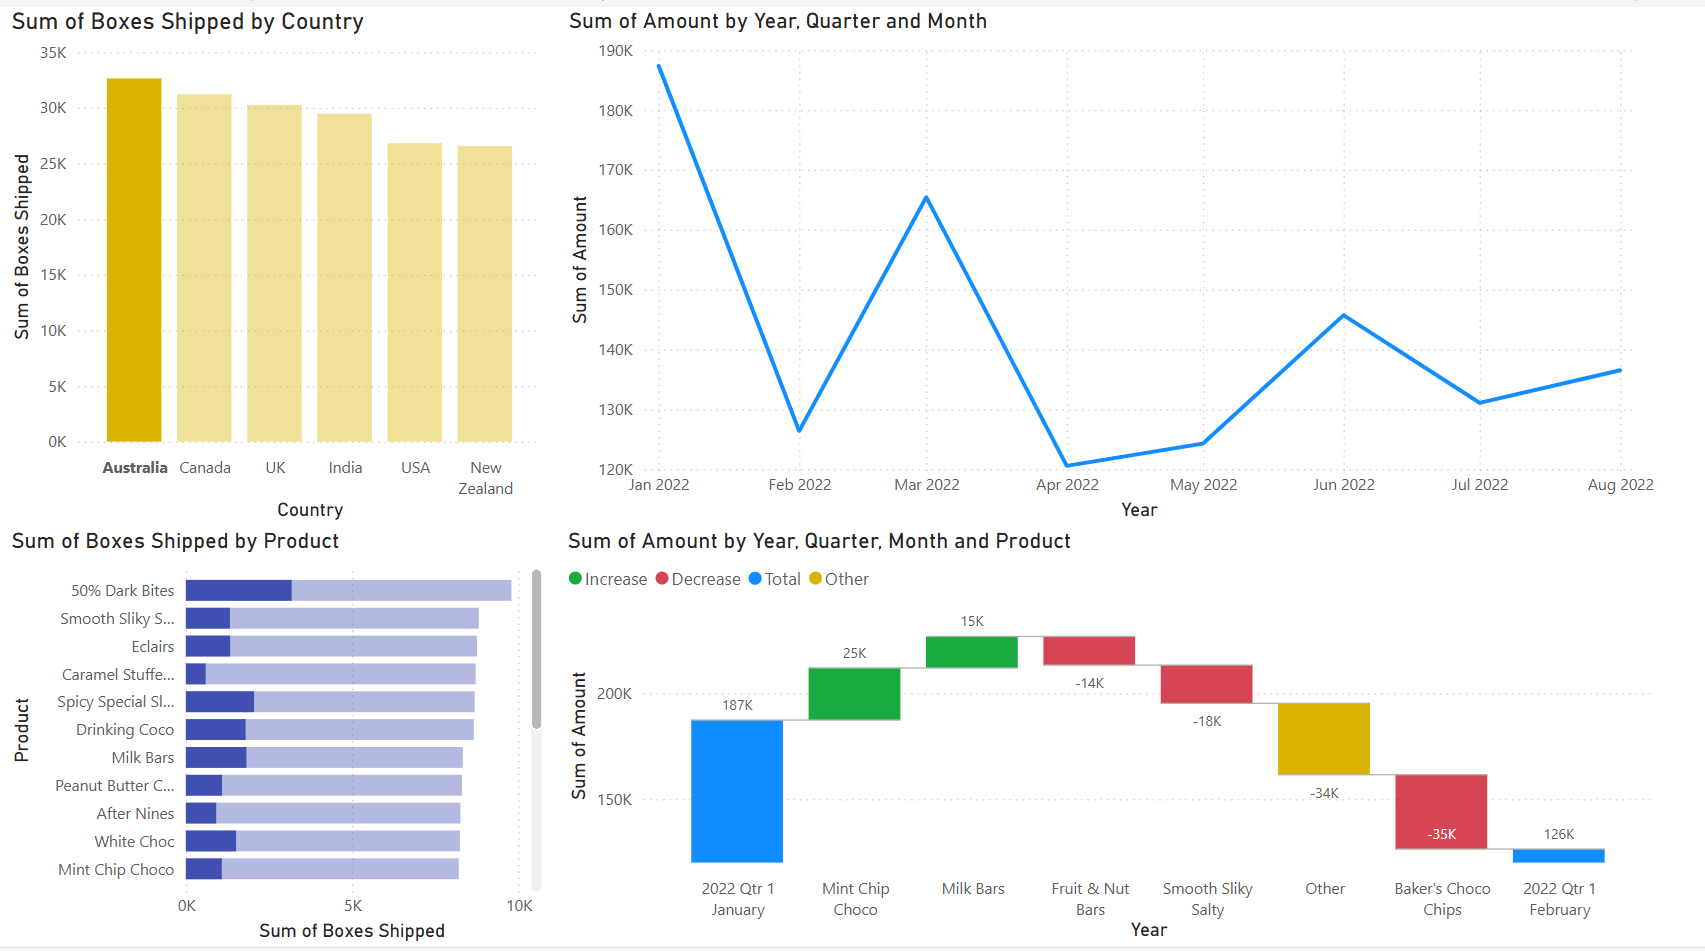

Layout of this report page (visuals, bound fields, positions):
{"tool":"powerbi","page":{"name":"Page 1","canvas":[1280,720],"ordinal":0},"visuals":[{"type":"columnChart","fields":{"Category":["data.Country"],"Y":["Sum(data.Boxes Shipped)"]},"box":[11.8,0,416.6,398.1],"z":0},{"type":"barChart","fields":{"Category":["data.Product"],"Y":["Sum(data.Boxes Shipped)"]},"box":[11.8,398.1,416.6,322.5],"z":1},{"type":"lineChart","fields":{"Y":["Sum(data.Amount)"],"Category":["data.Date.Variation.Date Hierarchy.Year","data.Date.Variation.Date Hierarchy.Quarter","data.Date.Variation.Date Hierarchy.Month"]},"box":[438.4,0,841.6,398.1],"z":2},{"type":"waterfallChart","fields":{"Category":["data.Date.Variation.Date Hierarchy.Year","data.Date.Variation.Date Hierarchy.Quarter","data.Date.Variation.Date Hierarchy.Month"],"Breakdown":["data.Product"],"Y":["Sum(data.Amount)"]},"box":[438,398,842,322],"z":3}]}

Visuals, with their boxes in screenshot pixels (x1, y1, x2, y2), scaled from the page's 1280x720 canvas onto the 1705x951 screenshot:
columnChart - data.Country x Sum(data.Boxes Shipped): [16,0,571,526]
barChart - data.Product x Sum(data.Boxes Shipped): [16,526,571,950]
lineChart - Sum(data.Amount) x data.Date.Variation.Date Hierarchy.Year: [584,0,1704,526]
waterfallChart - data.Date.Variation.Date Hierarchy.Year x data.Date.Variation.Date Hierarchy.Quarter: [583,526,1704,950]
